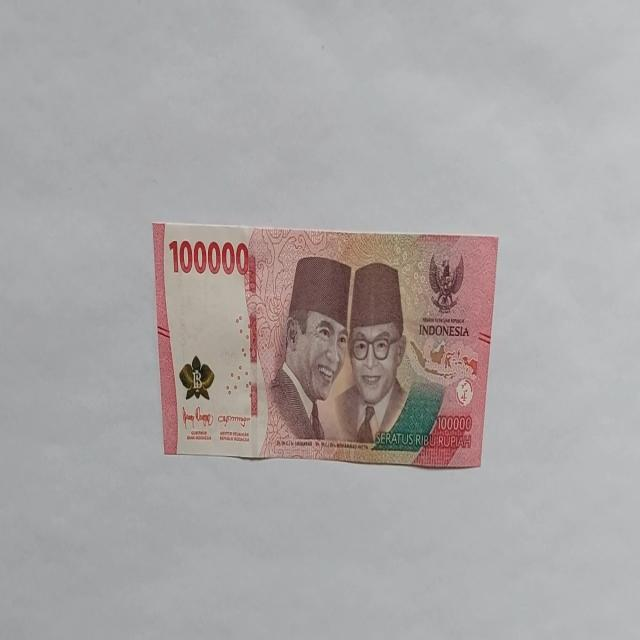seratus ribu rupiah: (152, 220, 499, 470), (268, 254, 352, 442), (334, 260, 411, 444)
